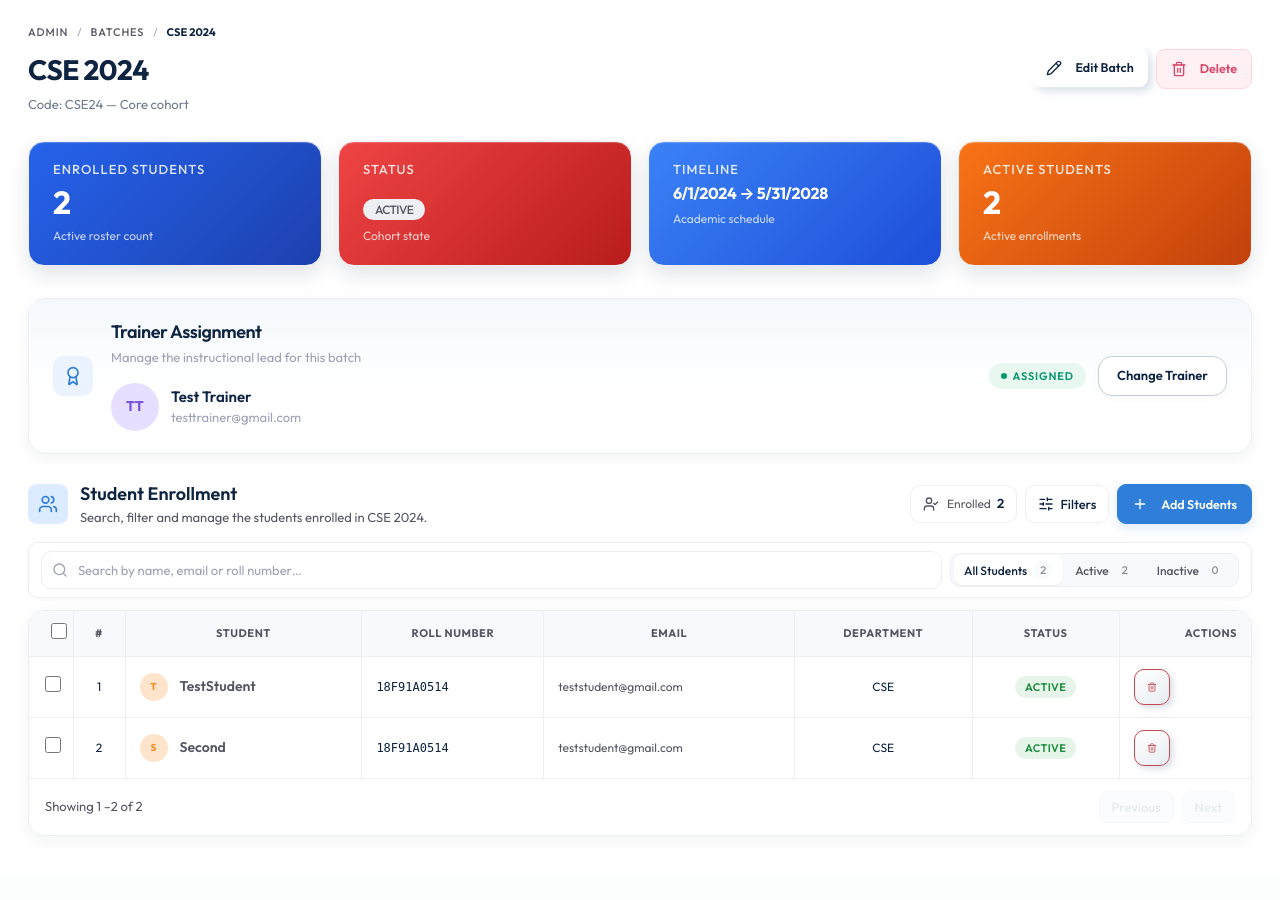
Test case: select-all checkbox selects every filtered row
Expected: the text "TestStudent" is shown, [180,677,256,695]
Click the checkbox named "Select all enrolled students on this page" at [59, 631], box [51,623,67,639]
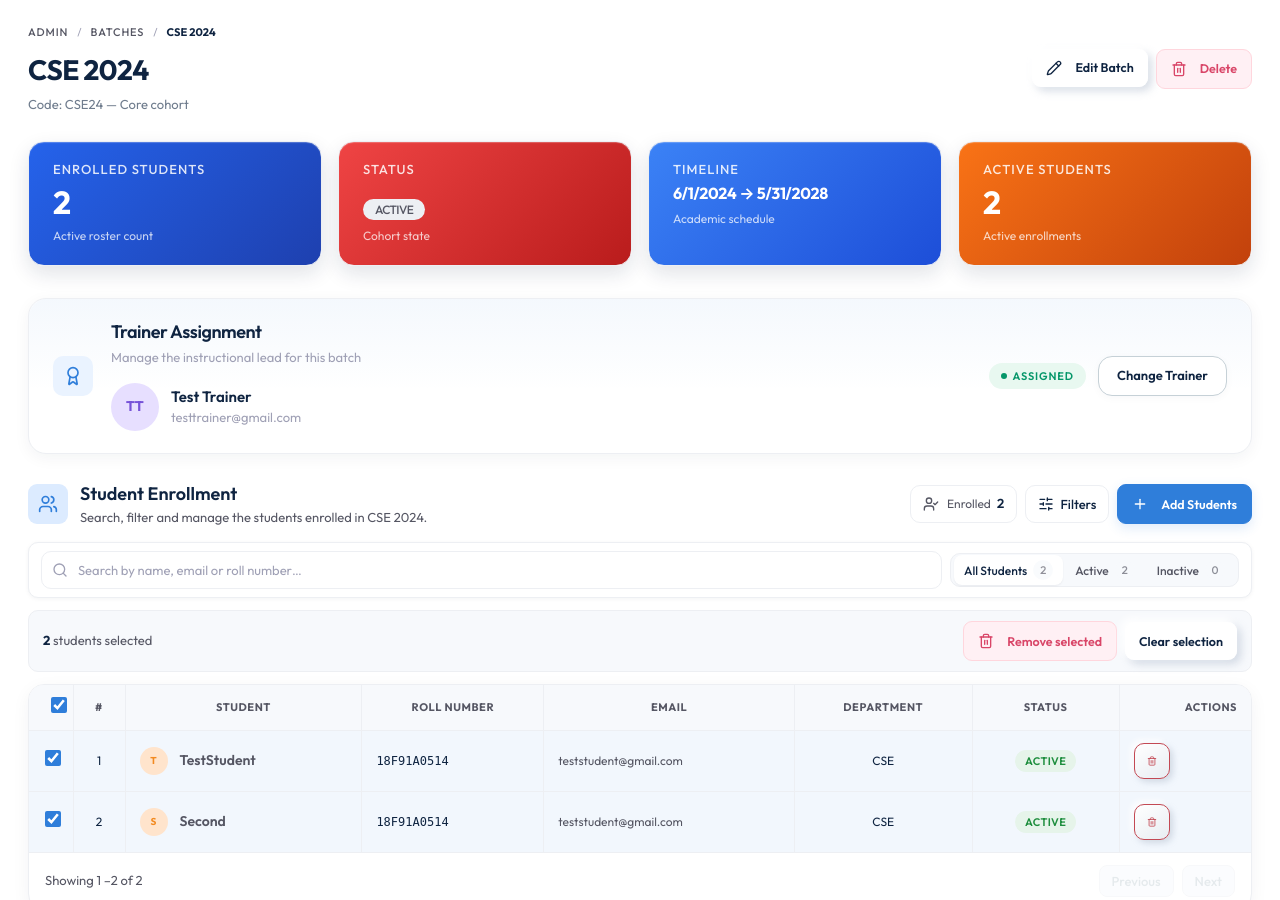
Now the message "2 students selected" is shown, box [43,631,152,651]
